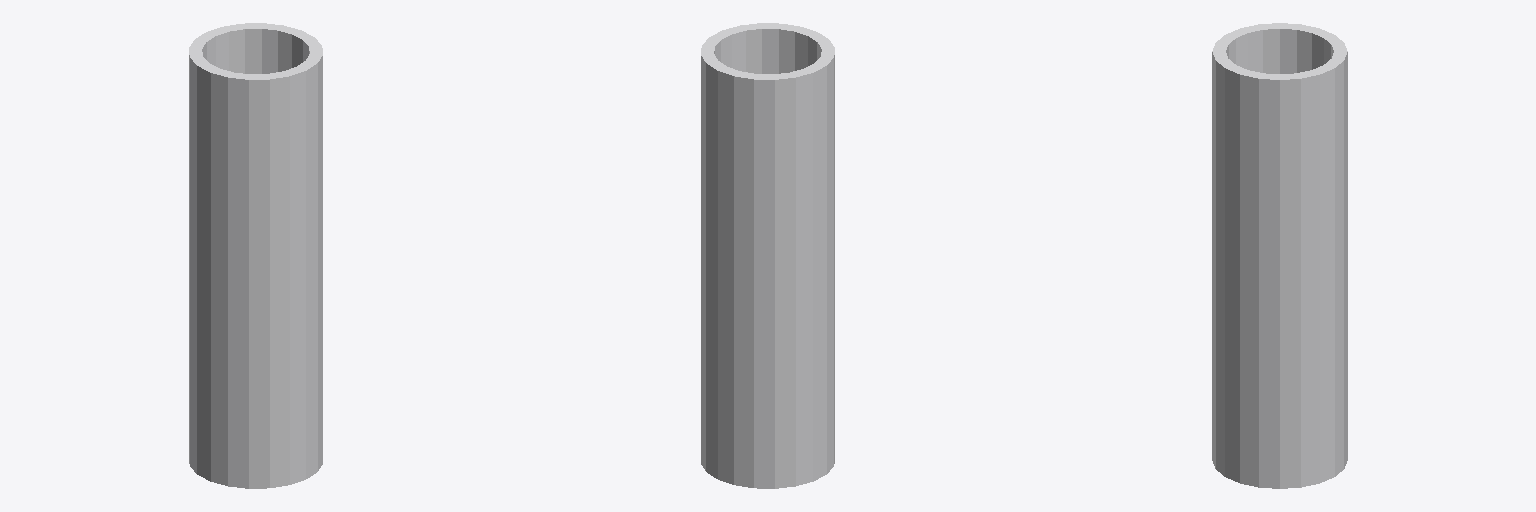
The model's file is hole.obj.
3 renders of one model, left to right at view 1: azimuth 30°, elevation 25°; view 2: azimuth 150°, elevation 25°; view 3: azimuth 270°, elevation 25°, orthographic.
Parts seen in each view (by area): view 1: pPipe1; view 2: pPipe1; view 3: pPipe1.
Boxes of the visible parts, <box> form: pPipe1: <box>189,23,322,488</box>; pPipe1: <box>701,23,834,488</box>; pPipe1: <box>1212,23,1347,488</box>.
Bounding box in the file's own units: 3.65 × 12.16 × 3.65.